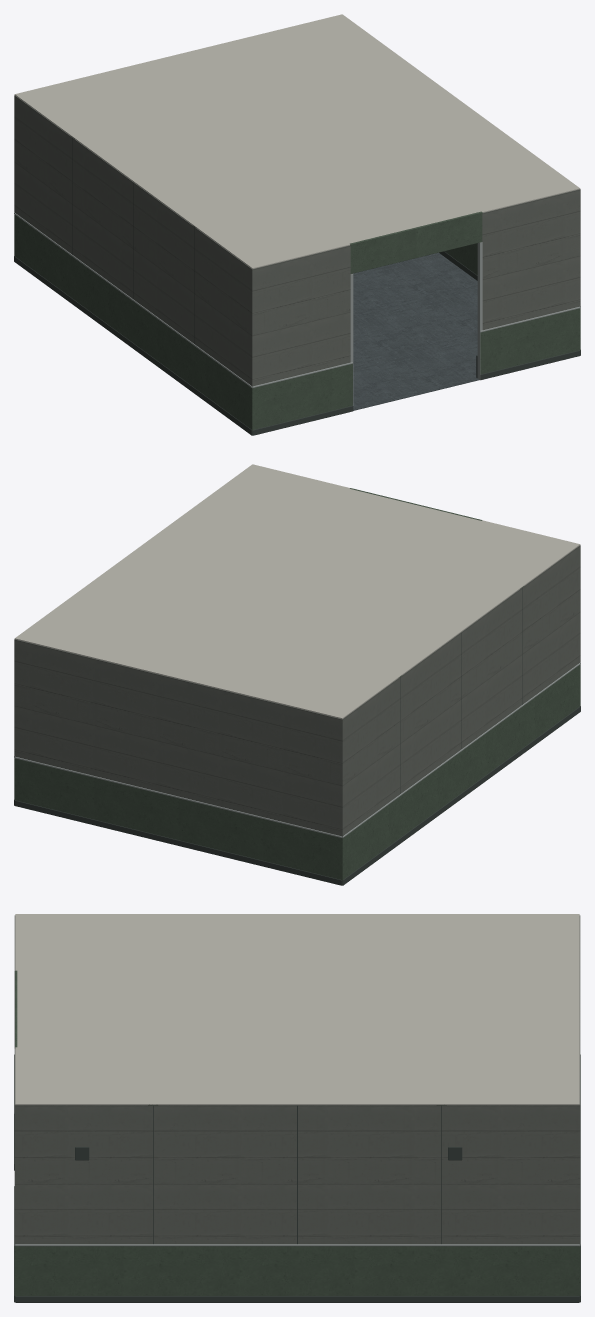
The model's file is equipment_bay_lining.glb.
3 views of the same model, one above another, from view 1: azimuth 30°, elevation 25°; view 2: azimuth 150°, elevation 25°; view 3: azimuth 270°, elevation 25° (orthographic). The views are drawn at different scales.
Visible parts, largest first — view 1: equipment_bay_lining / bay_ceiling_ivory, equipment_bay_lining / transfer_quiet_concrete, equipment_bay_lining / transfer_green_enamel, equipment_bay_lining / bay_bluegray_floor, equipment_bay_lining / transfer_dark_steel, equipment_bay_lining / transfer_galvanized; view 2: equipment_bay_lining / bay_ceiling_ivory, equipment_bay_lining / transfer_quiet_concrete, equipment_bay_lining / transfer_green_enamel, equipment_bay_lining / transfer_dark_steel, equipment_bay_lining / transfer_galvanized; view 3: equipment_bay_lining / bay_ceiling_ivory, equipment_bay_lining / transfer_quiet_concrete, equipment_bay_lining / transfer_green_enamel, equipment_bay_lining / transfer_dark_steel, equipment_bay_lining / transfer_galvanized.
Boxes of the visible parts, x1=… form: equipment_bay_lining / bay_ceiling_ivory: x1=14, y1=14, x2=580, y2=268; equipment_bay_lining / transfer_quiet_concrete: x1=14, y1=95, x2=580, y2=386; equipment_bay_lining / transfer_green_enamel: x1=14, y1=136, x2=580, y2=434; equipment_bay_lining / bay_bluegray_floor: x1=353, y1=252, x2=479, y2=410; equipment_bay_lining / transfer_dark_steel: x1=14, y1=138, x2=580, y2=435; equipment_bay_lining / transfer_galvanized: x1=14, y1=212, x2=580, y2=405; equipment_bay_lining / bay_ceiling_ivory: x1=14, y1=464, x2=580, y2=718; equipment_bay_lining / transfer_quiet_concrete: x1=14, y1=545, x2=580, y2=837; equipment_bay_lining / transfer_green_enamel: x1=14, y1=488, x2=580, y2=884; equipment_bay_lining / transfer_dark_steel: x1=14, y1=588, x2=580, y2=885; equipment_bay_lining / transfer_galvanized: x1=14, y1=662, x2=580, y2=837; equipment_bay_lining / bay_ceiling_ivory: x1=15, y1=914, x2=579, y2=1104; equipment_bay_lining / transfer_quiet_concrete: x1=14, y1=915, x2=580, y2=1246; equipment_bay_lining / transfer_green_enamel: x1=14, y1=970, x2=580, y2=1299; equipment_bay_lining / transfer_dark_steel: x1=14, y1=1105, x2=580, y2=1302; equipment_bay_lining / transfer_galvanized: x1=14, y1=1054, x2=580, y2=1246.
Size of the model in its own units: 7.82 by 3.8 by 9.82.
7 materials, 3 textured.
